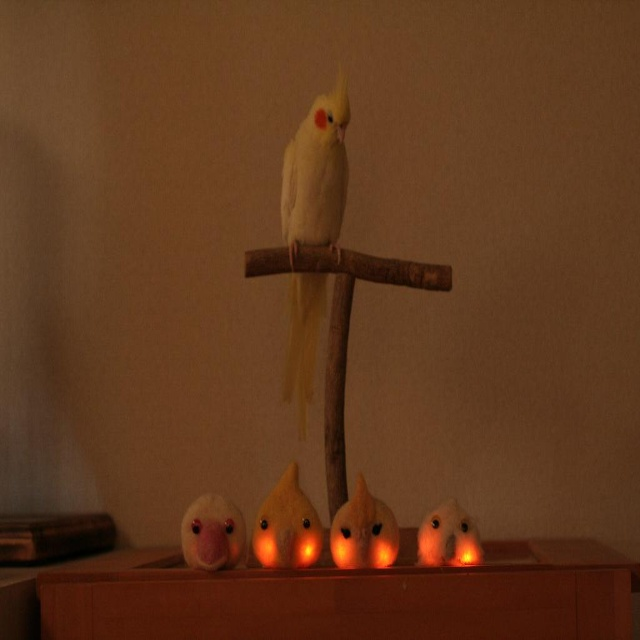Parrot: (278, 58, 354, 447), (251, 454, 320, 573), (176, 486, 250, 581), (331, 474, 400, 571), (412, 490, 483, 569)
